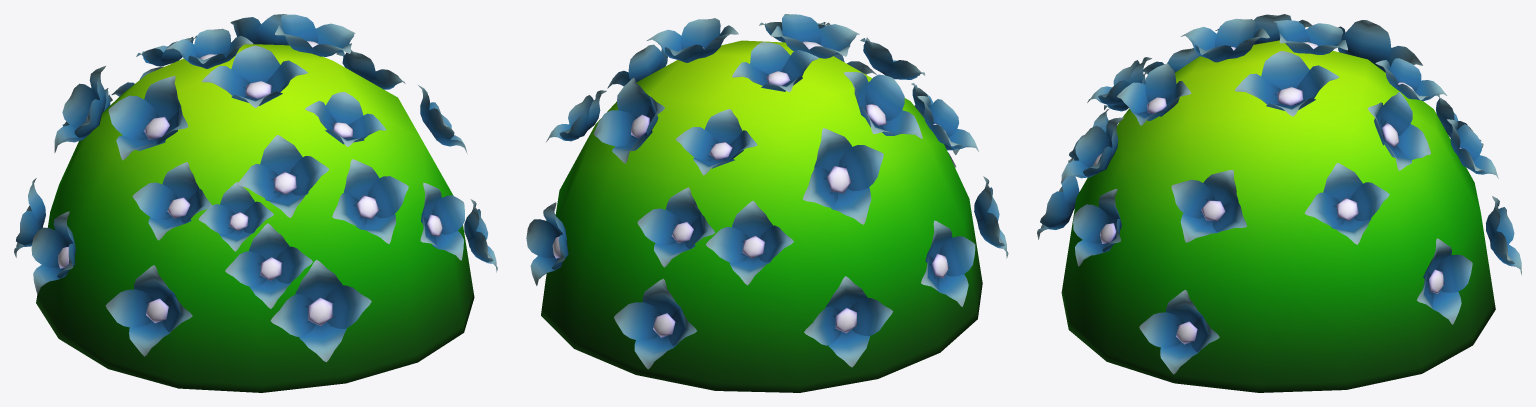
The model's file is flower (10).fbx.
3 renders of one model, left to right at view 1: azimuth 30°, elevation 25°; view 2: azimuth 150°, elevation 25°; view 3: azimuth 270°, elevation 25°, orthographic.
Parts seen in each view (by area): view 1: 09_Bush3; view 2: 09_Bush3; view 3: 09_Bush3.
Part boxes in pixels (x1=…): 09_Bush3: x1=14, y1=14, x2=497, y2=392; 09_Bush3: x1=526, y1=14, x2=1008, y2=392; 09_Bush3: x1=1037, y1=14, x2=1521, y2=392.
Size of the model in its own units: 120 by 73.76 by 123.
